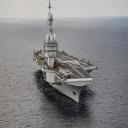Portanaves: (33, 1, 99, 107)
